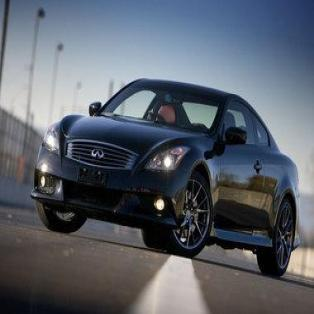Auto: (30, 77, 300, 277)
